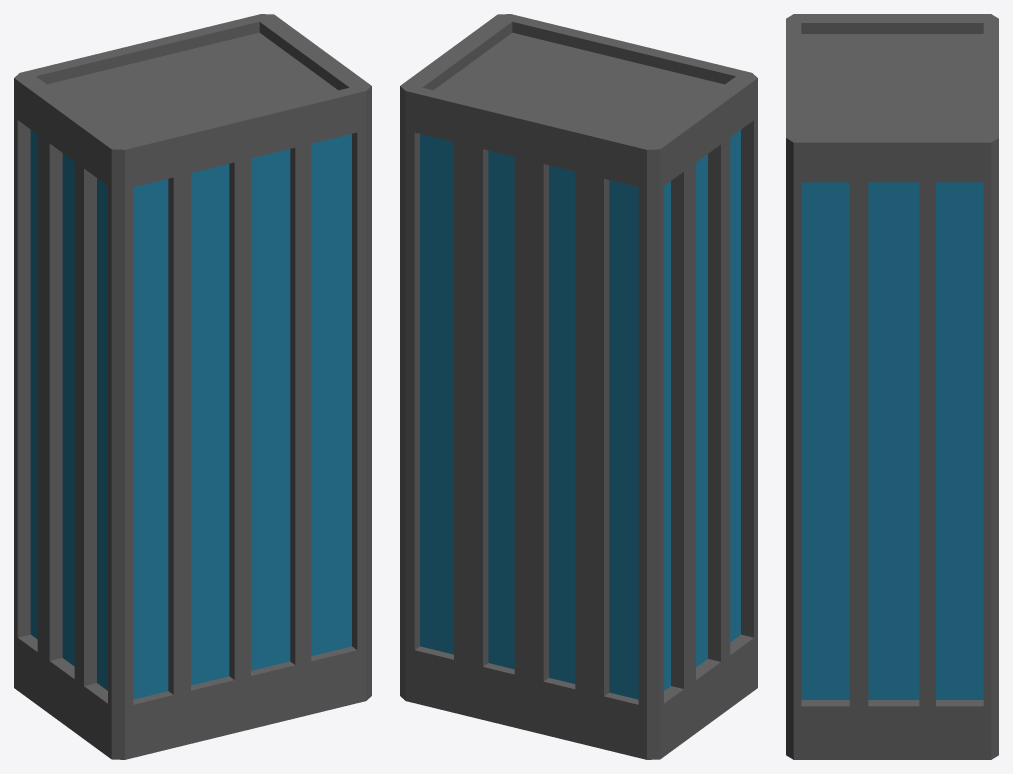
Rendered from biurowiec2.fbx.
3 renders of one model, left to right at view 1: azimuth 30°, elevation 25°; view 2: azimuth 150°, elevation 25°; view 3: azimuth 270°, elevation 25°, orthographic.
Parts seen in each view (by area): view 1: biurowiec2; view 2: biurowiec2; view 3: biurowiec2.
Boxes of the visible parts, x1,y1,x2,y2 form: biurowiec2: [14, 14, 371, 759]; biurowiec2: [400, 14, 757, 759]; biurowiec2: [786, 14, 998, 759].
Size of the model in its own units: 500 by 1120 by 350.
